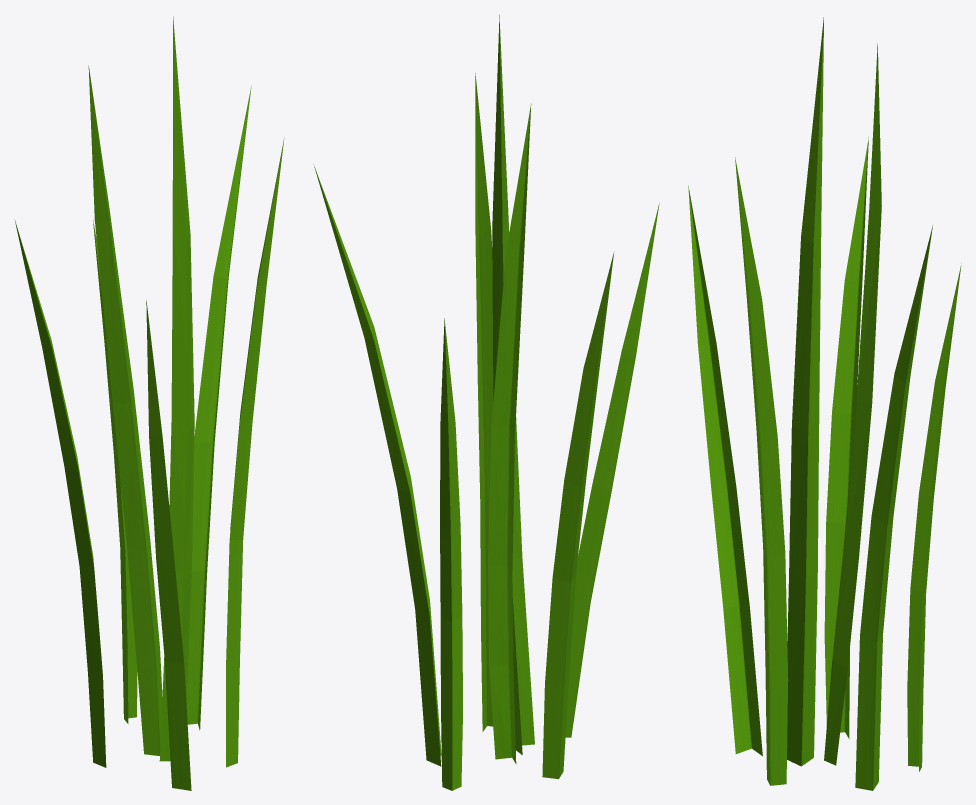
Rendered from GrassTall_1.fbx.
3 renders of one model, left to right at view 1: azimuth 30°, elevation 25°; view 2: azimuth 150°, elevation 25°; view 3: azimuth 270°, elevation 25°, orthographic.
Parts seen in each view (by area): view 1: Mesh; view 2: Mesh; view 3: Mesh.
Boxes of the visible parts, box(x1,y1,x2,y2) form: Mesh: box(14, 16, 284, 790); Mesh: box(313, 14, 659, 790); Mesh: box(688, 17, 961, 790).
Size of the model in its own units: 95.39 by 251 by 82.45.
